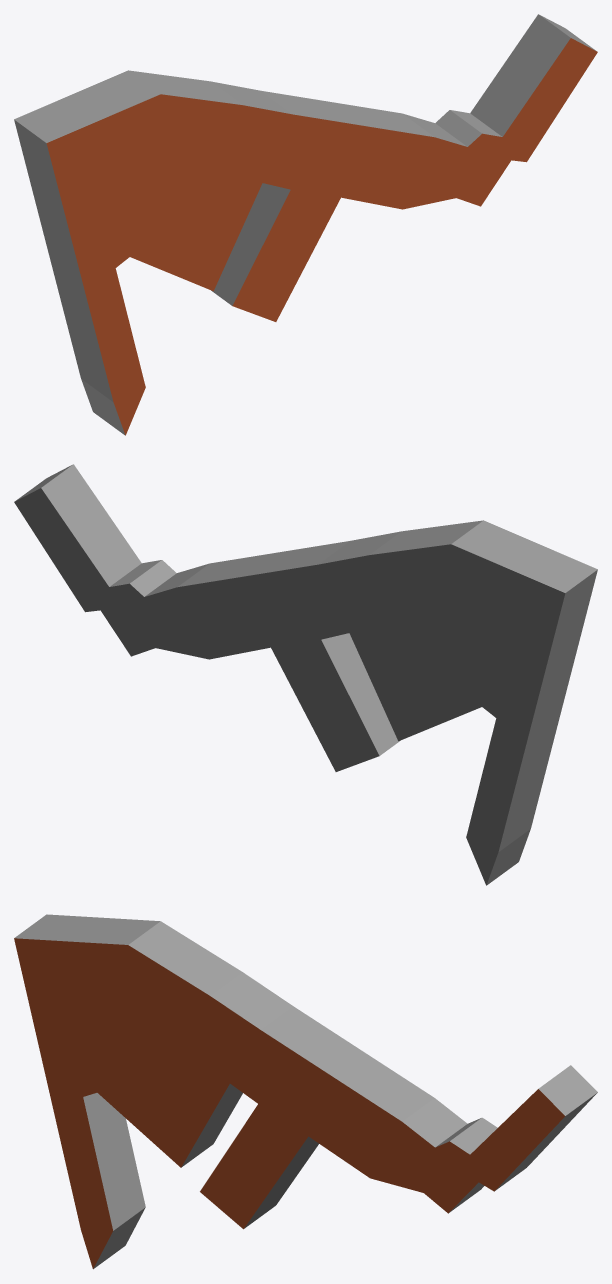
The model's file is construction_1062_assumed_A_Casa_h6m.obj.
The picture shows the model from 3 angles, top to bottom: view 1: azimuth 30°, elevation 25°; view 2: azimuth 150°, elevation 25°; view 3: azimuth 330°, elevation 25°; orthographic projection.
Parts seen in each view (by area): view 1: construction_1062_assumed_A_Casa; view 2: construction_1062_assumed_A_Casa; view 3: construction_1062_assumed_A_Casa.
Boxes of the visible parts, x1,y1,x2,y2 form: construction_1062_assumed_A_Casa: (14,14,597,435); construction_1062_assumed_A_Casa: (14,464,597,885); construction_1062_assumed_A_Casa: (14,914,597,1269).
Bounding box in the file's own units: 58.62 × 33.83 × 6.
